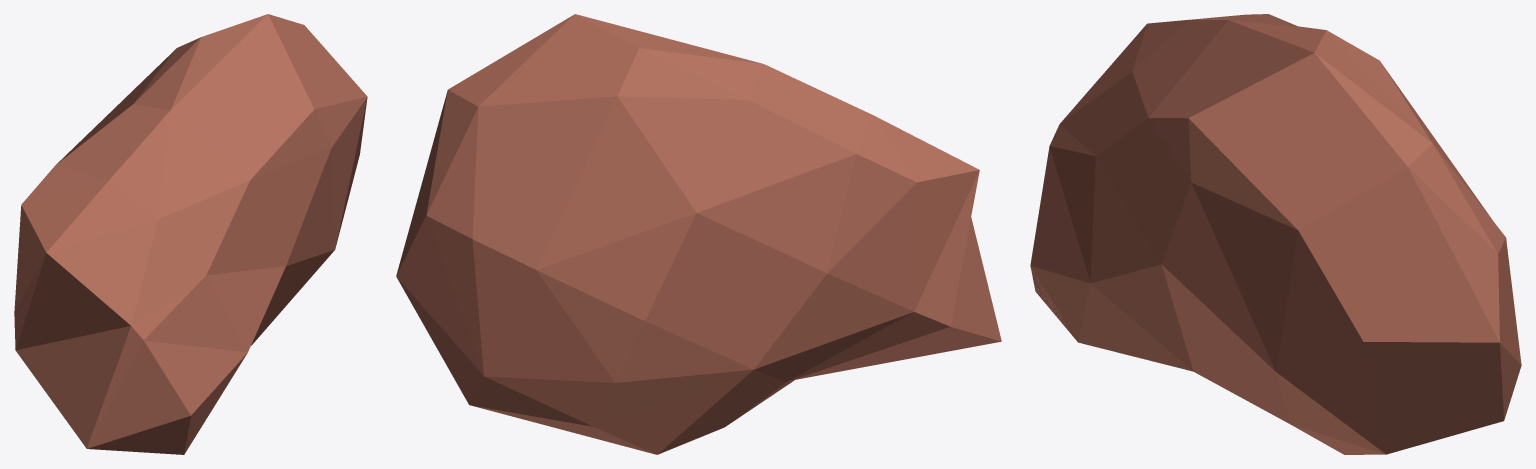
Rendered from rock3.fbx.
3 views of the same model, side by side, from view 1: azimuth 30°, elevation 25°; view 2: azimuth 150°, elevation 25°; view 3: azimuth 270°, elevation 25° (orthographic). The views are drawn at different scales.
Visible parts, largest first — view 1: LP Stone B; view 2: LP Stone B; view 3: LP Stone B.
Boxes of the visible parts, box(x1,y1,x2,y2) form: LP Stone B: box(14, 14, 367, 454); LP Stone B: box(396, 14, 1001, 454); LP Stone B: box(1030, 14, 1521, 454).
Size of the model in its own units: 23.07 by 18.72 by 19.89.
